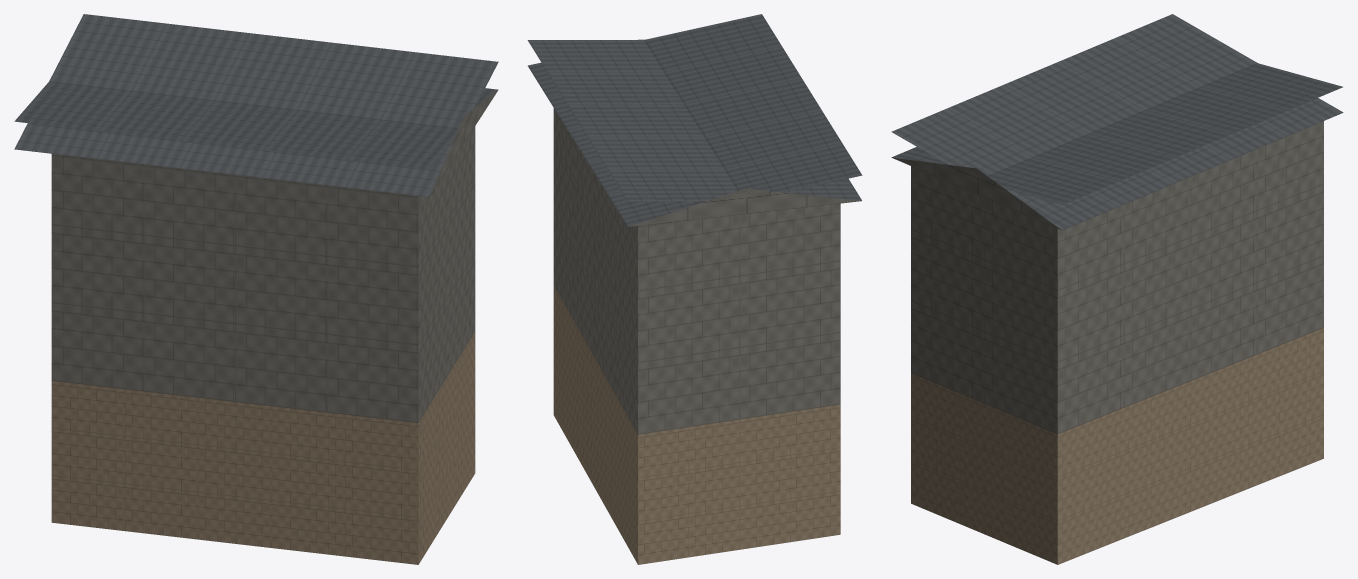
Rendered from bld_c6_1_541.gltf.
3 renders of one model, left to right at view 1: azimuth 30°, elevation 25°; view 2: azimuth 150°, elevation 25°; view 3: azimuth 270°, elevation 25°, orthographic. The views are drawn at different scales.
Parts seen in each view (by area): view 1: bld_c6_1_541; view 2: bld_c6_1_541; view 3: bld_c6_1_541.
Boxes of the visible parts, <box> form: bld_c6_1_541: <box>14,14,498,564</box>; bld_c6_1_541: <box>527,14,862,564</box>; bld_c6_1_541: <box>891,14,1343,564</box>.
Size of the model in its own units: 15.97 by 14.5 by 16.
Materials: 4 (4 with a texture image).
